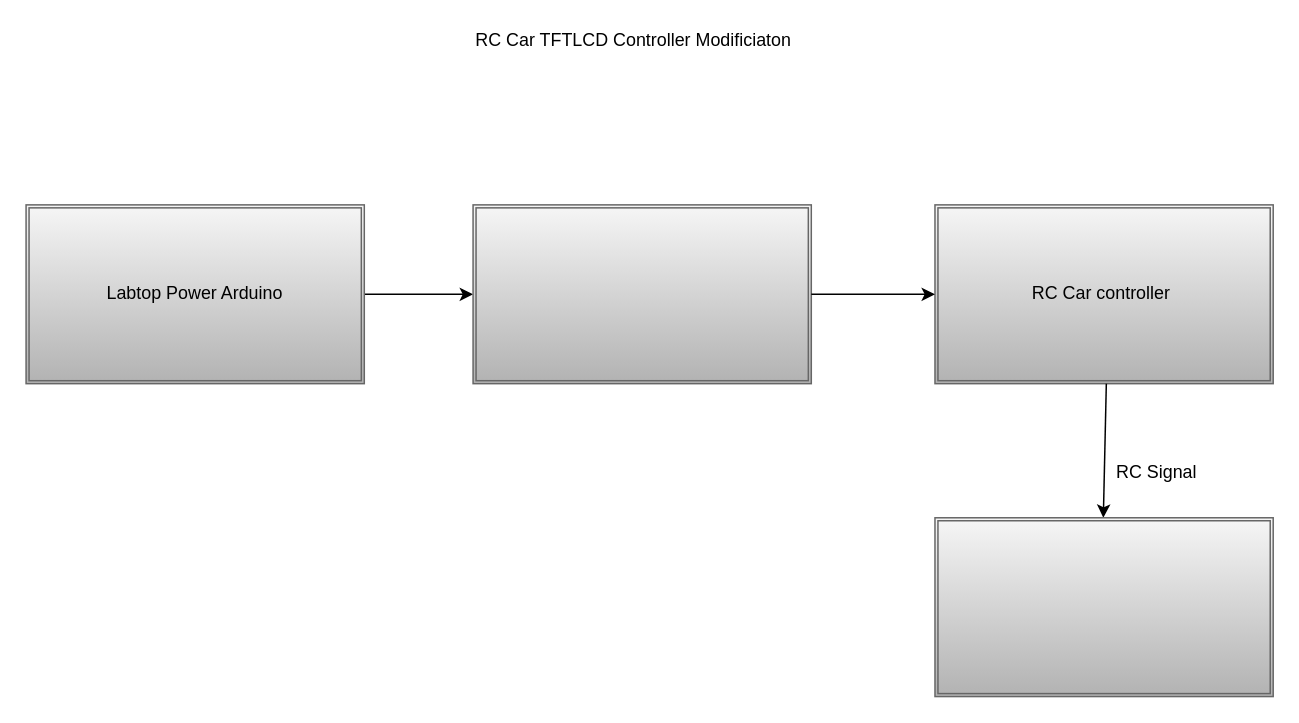
Image size: 1299x723. Some labels were removed from this diagram. Each missing label, with the box of its shape:
RC Car: (933, 516, 1273, 697)
TFTLCD Breakout Touchscreen: (472, 203, 811, 384)
